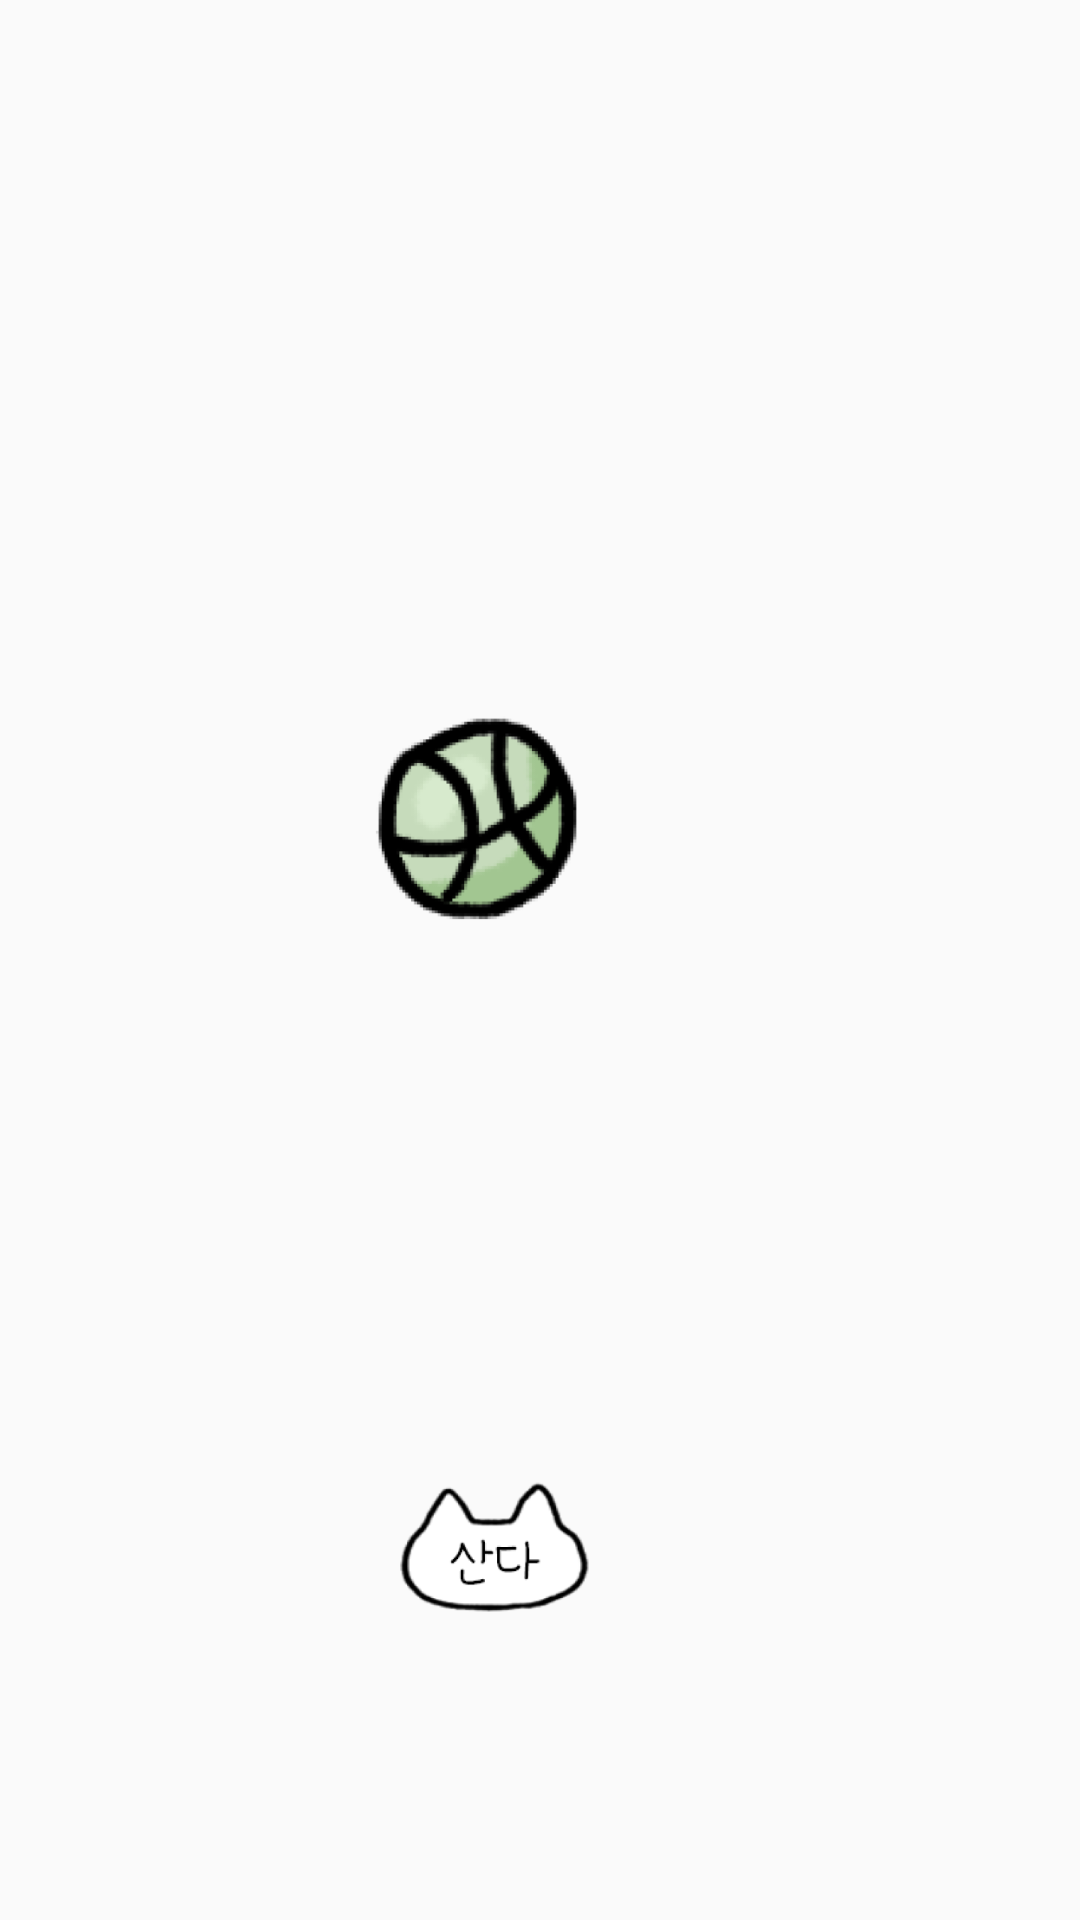

Where to tap for icons on this 1080px×1920px app screen, as (x=x, y=y):
ball: (x=476, y=818)
